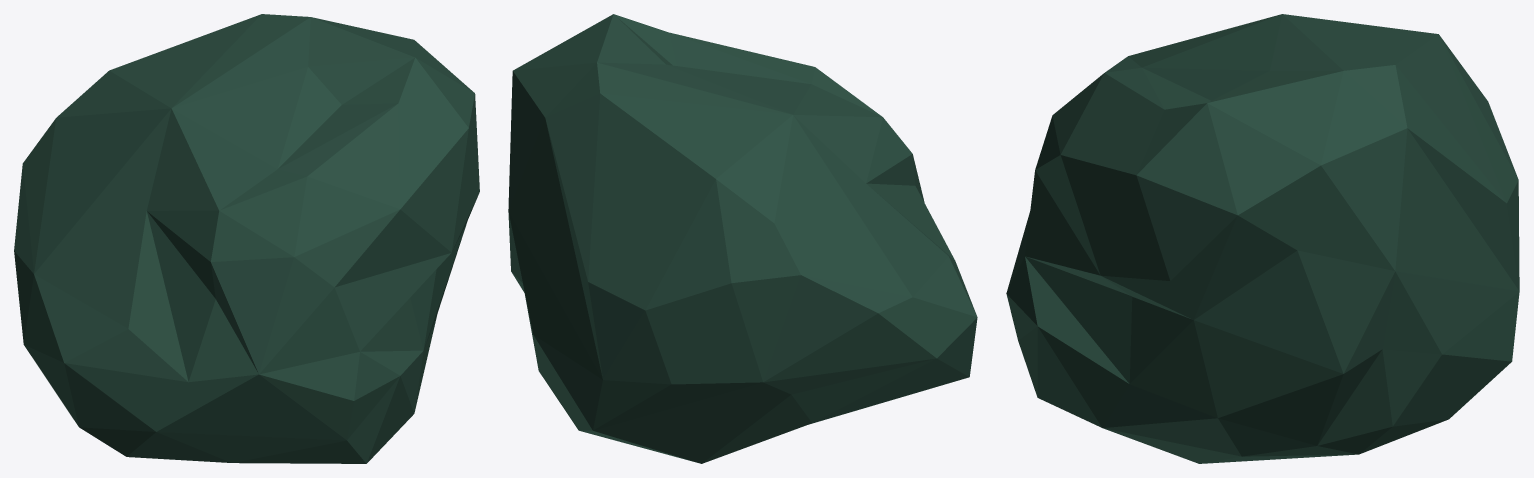
File: SM_large_rock_23.fbx
The picture shows the model from 3 angles, left to right: view 1: azimuth 30°, elevation 25°; view 2: azimuth 150°, elevation 25°; view 3: azimuth 270°, elevation 25°; orthographic projection. The views are drawn at different scales.
Parts seen in each view (by area): view 1: large_rock_23; view 2: large_rock_23; view 3: large_rock_23.
Boxes of the visible parts, box(x1,y1,x2,y2) form: large_rock_23: box(14, 14, 479, 463); large_rock_23: box(508, 14, 977, 463); large_rock_23: box(1006, 14, 1519, 463).
Size of the model in its own units: 70.22 by 56.31 by 64.43.
